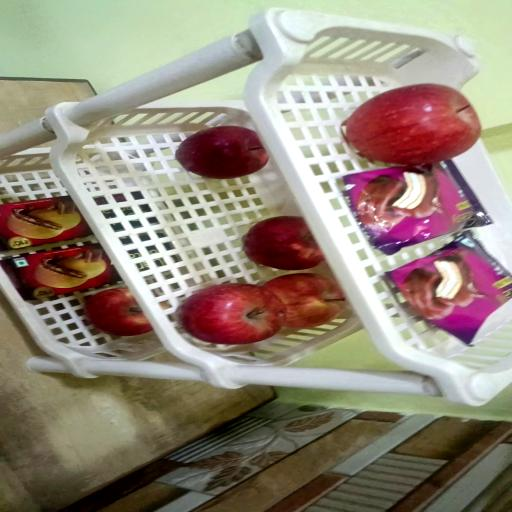Apple: (342, 82, 480, 165), (178, 284, 285, 346), (177, 124, 271, 178), (262, 274, 346, 330), (244, 218, 325, 272), (83, 288, 151, 337)
Choco Fills: (0, 247, 118, 302), (0, 198, 93, 252)
Choco Pie: (342, 162, 492, 258), (386, 232, 511, 346)
